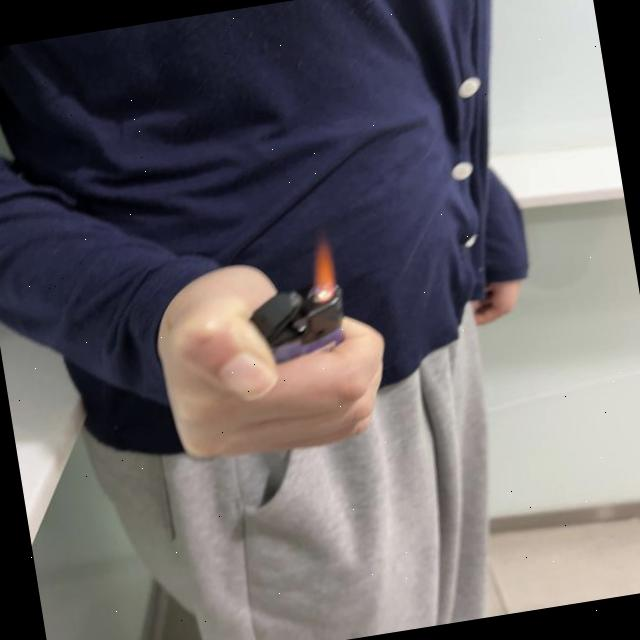fire: (302, 231, 340, 304)
